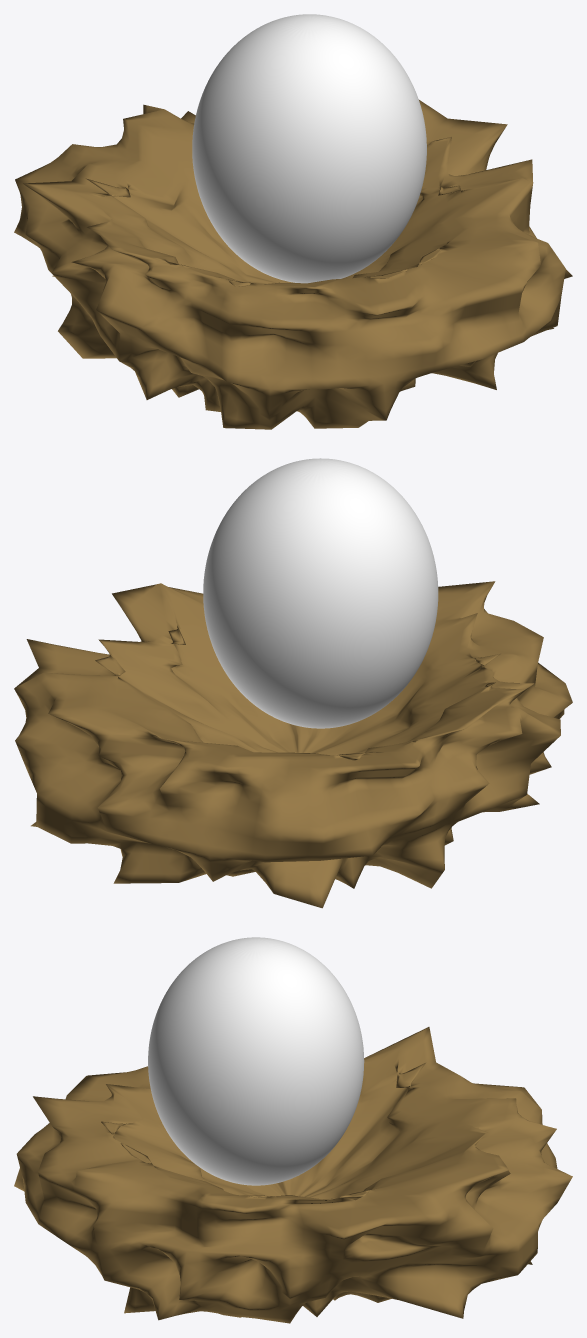
Rendered from BUtton Pick -Egg.fbx.
3 renders of one model, top to bottom at view 1: azimuth 30°, elevation 25°; view 2: azimuth 150°, elevation 25°; view 3: azimuth 270°, elevation 25°, orthographic. The views are drawn at different scales.
Parts seen in each view (by area): view 1: Sphere.001, Sphere.002; view 2: Sphere.001, Sphere.002; view 3: Sphere.001, Sphere.002.
Part boxes in pixels (left/top/right/bottom): Sphere.001: left=14, top=100, right=572, bottom=429; Sphere.002: left=192, top=14, right=426, bottom=283; Sphere.001: left=14, top=581, right=572, bottom=908; Sphere.002: left=203, top=458, right=438, bottom=728; Sphere.001: left=14, top=1027, right=572, bottom=1323; Sphere.002: left=148, top=937, right=364, bottom=1185.
Size of the model in its own units: 652 by 469 by 725.
